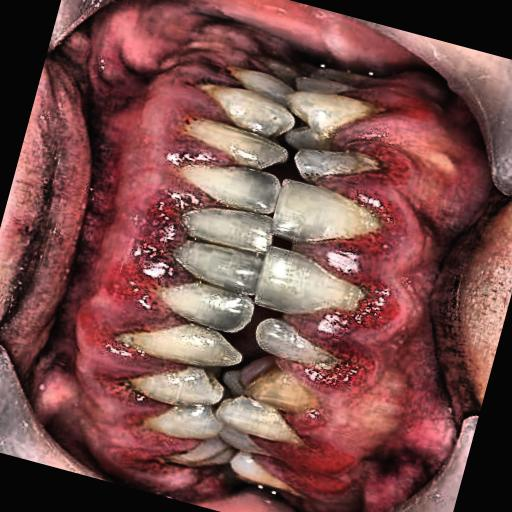Gingivitis: (260, 342, 407, 512), (318, 204, 456, 362), (332, 79, 479, 218)
